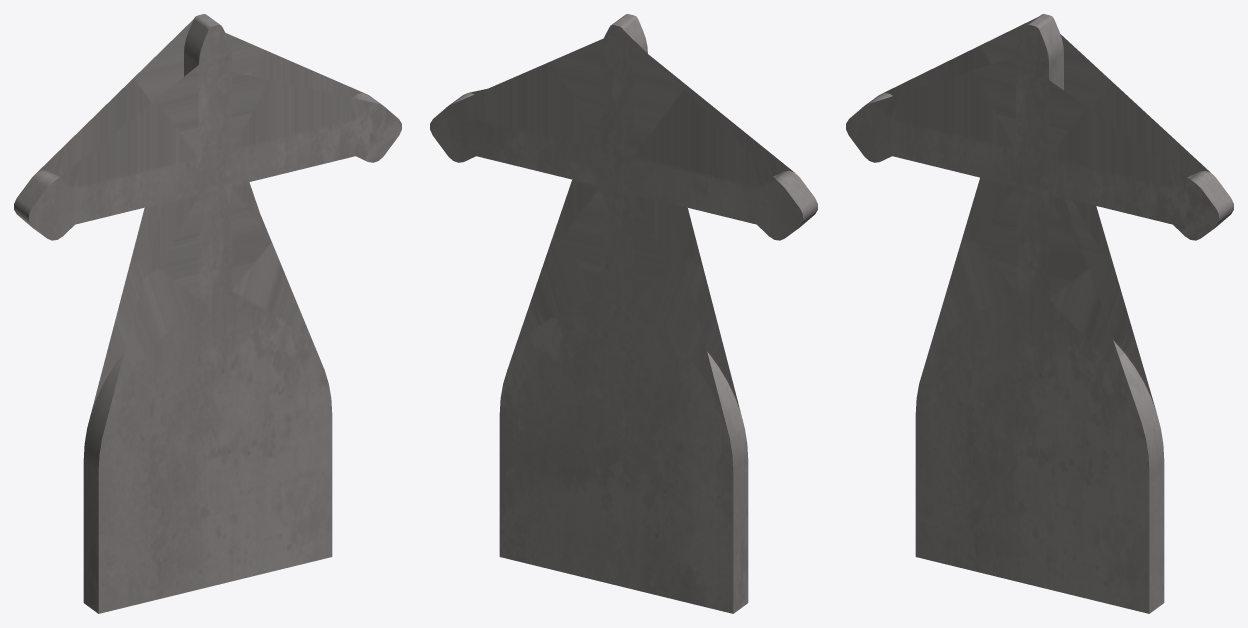
File: New_GStone.fbx
3 renders of one model, left to right at view 1: azimuth 30°, elevation 25°; view 2: azimuth 150°, elevation 25°; view 3: azimuth 330°, elevation 25°, orthographic.
Parts seen in each view (by area): view 1: pCube1; view 2: pCube1; view 3: pCube1.
Boxes of the visible parts, x1,y1,x2,y2 form: pCube1: (14,14,401,613); pCube1: (430,14,817,613); pCube1: (846,14,1233,613).
Size of the model in its own units: 3.56 by 5.1 by 0.2458.
1 material, 1 textured.
